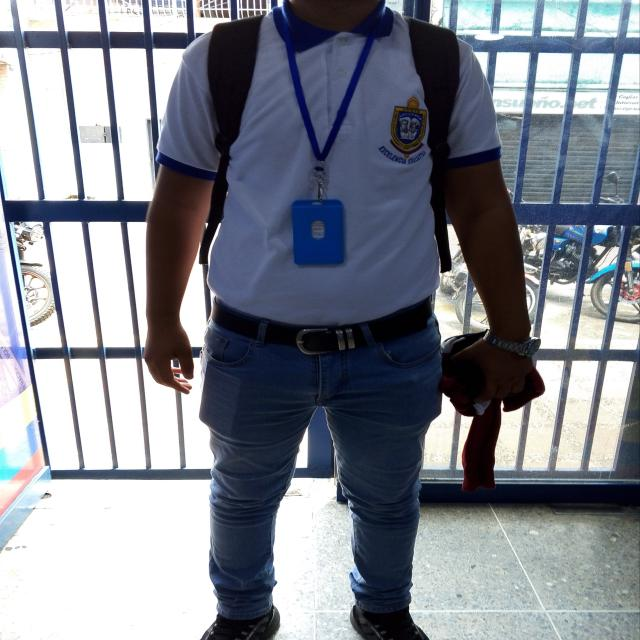carnet: (291, 200, 345, 266)
uniforme_superior: (156, 0, 504, 326)
